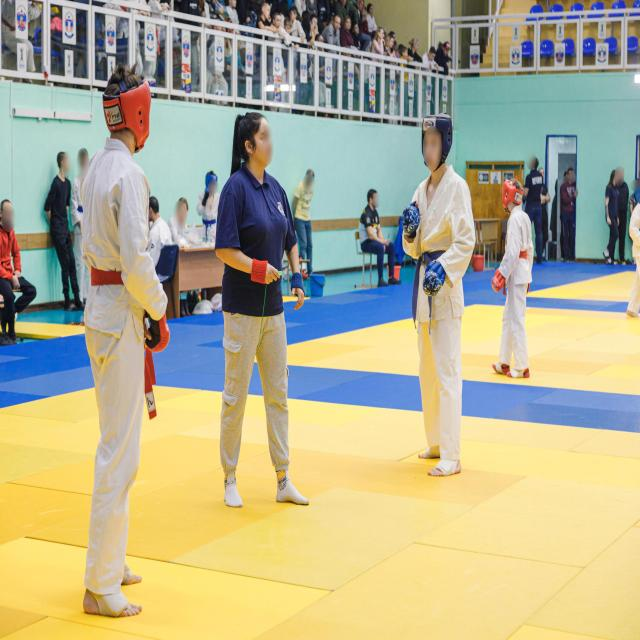Person: (62, 51, 160, 640), (207, 105, 317, 535), (392, 111, 476, 484), (288, 161, 328, 308), (47, 145, 79, 325), (68, 141, 98, 306), (355, 179, 395, 301), (0, 190, 32, 342), (518, 143, 544, 286), (556, 157, 584, 272), (602, 168, 622, 260), (200, 168, 224, 240), (171, 192, 193, 257), (614, 164, 628, 262), (258, 2, 275, 39), (420, 43, 440, 71), (288, 7, 302, 46), (372, 23, 386, 61), (437, 39, 453, 72), (328, 14, 344, 46), (273, 12, 288, 45), (353, 22, 370, 48), (407, 36, 422, 64), (308, 15, 322, 45), (343, 15, 353, 48), (386, 34, 396, 60), (400, 43, 412, 63), (368, 2, 376, 31), (356, 0, 364, 19)
